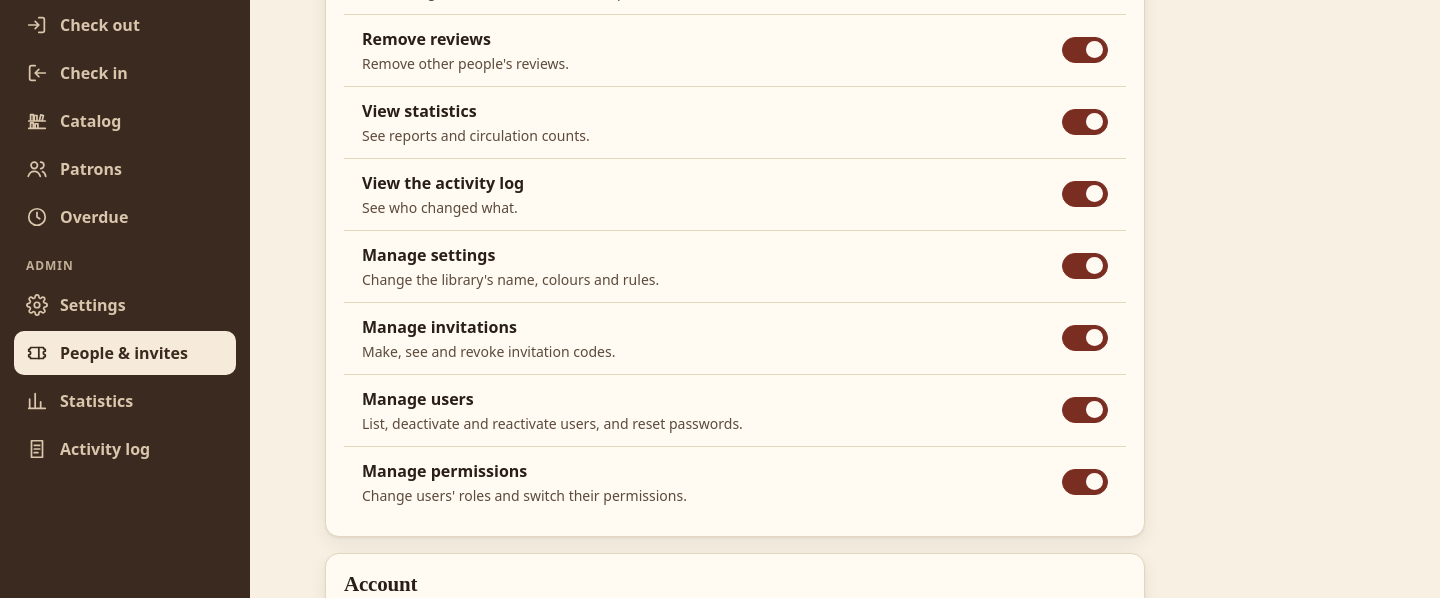
Test case: ADMIN-2 Manage users › Last admin: the server's refusal is shown and the switch stays as it was
(page scrolled)
Click the switch labelled "Manage users".
click(1085, 410)  # box [1062,397,1108,423]
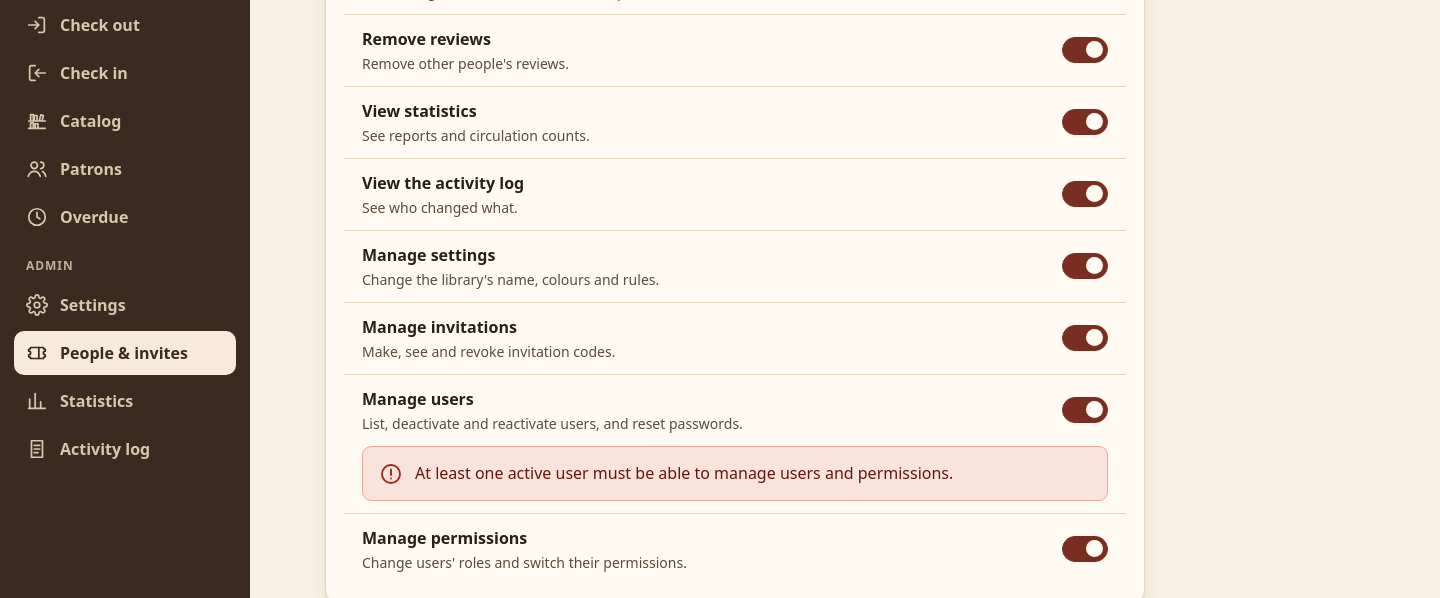
Expected: the message reads "At least one active user must be able to manage users and permissions.", [415,462,953,484]
